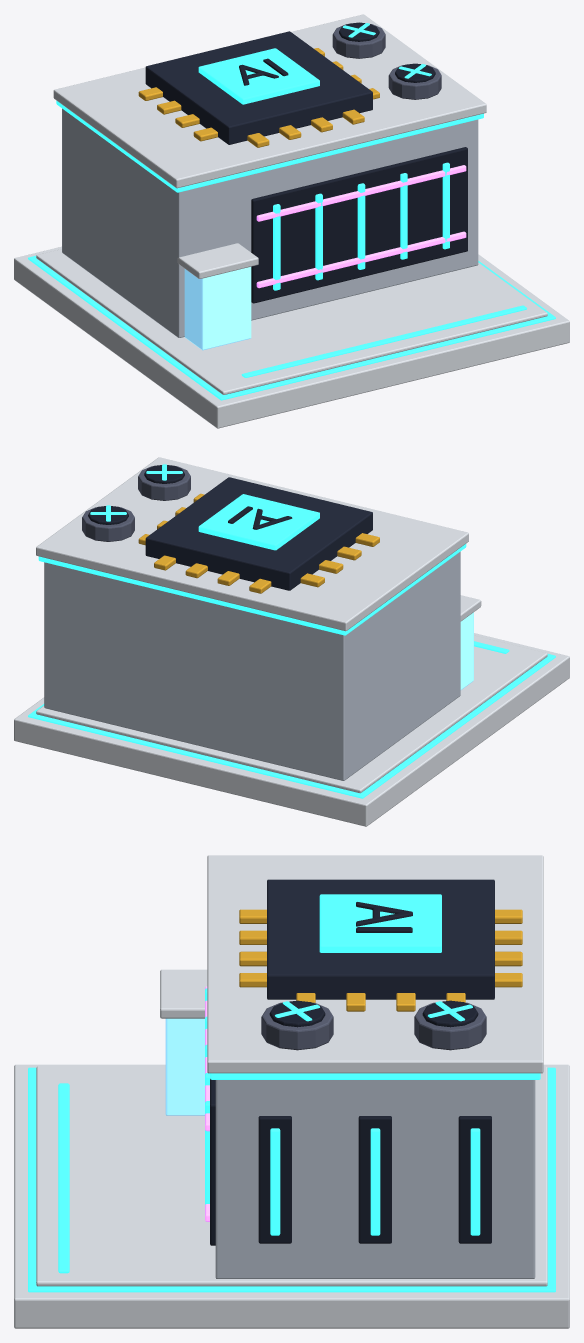
Rendered from datacenter.glb.
3 views of the same model, one above another, from view 1: azimuth 30°, elevation 25°; view 2: azimuth 150°, elevation 25°; view 3: azimuth 270°, elevation 25° (orthographic). The views are drawn at different scales.
Parts seen in each view (by area): view 1: Datacenter; view 2: Datacenter; view 3: Datacenter.
Boxes of the visible parts, box(x1,y1,x2,y2) form: Datacenter: box(14, 14, 569, 428); Datacenter: box(14, 457, 569, 826); Datacenter: box(14, 855, 569, 1328).
Bounding box in the file's own units: 2 × 1.17 × 2.
